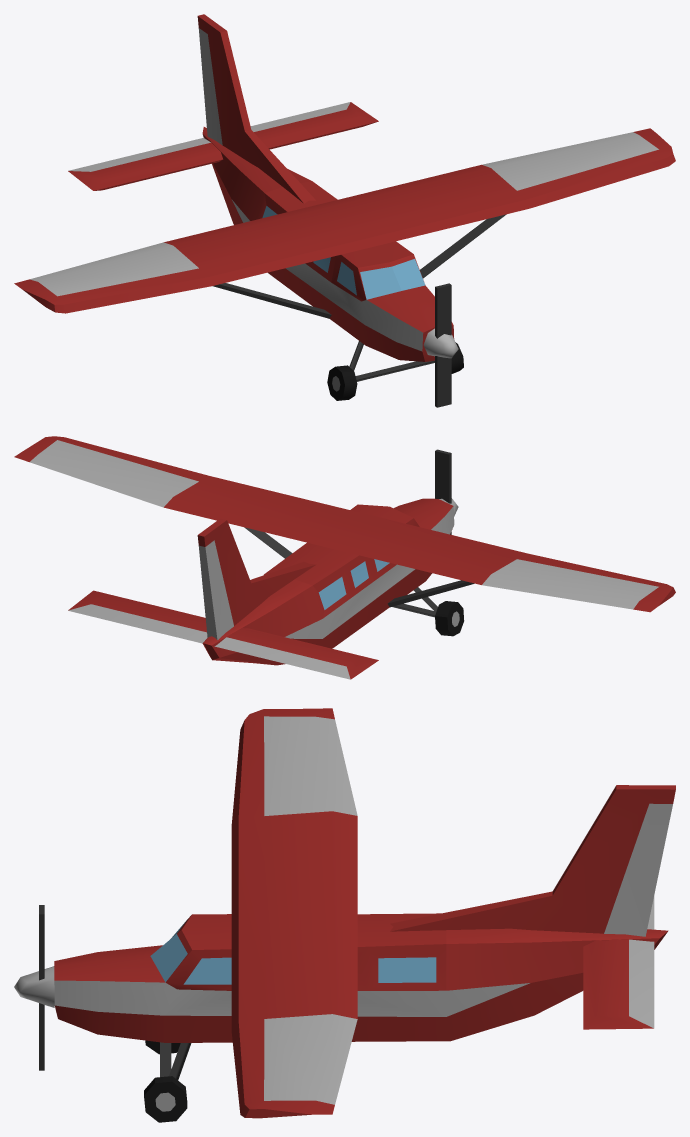
3 renders of one model, top to bottom at view 1: azimuth 30°, elevation 25°; view 2: azimuth 150°, elevation 25°; view 3: azimuth 270°, elevation 25°, orthographic. The views are drawn at different scales.
Parts seen in each view (by area): view 1: plane_01, plane_01_propeller; view 2: plane_01, plane_01_propeller; view 3: plane_01, plane_01_propeller.
Boxes of the visible parts, x1,y1,x2,y2 form: plane_01: (14,14,675,400); plane_01_propeller: (423,283,458,407); plane_01: (14,436,675,679); plane_01_propeller: (435,449,458,534); plane_01: (54,708,675,1122); plane_01_propeller: (14,905,54,1070).
Bounding box in the file's own units: 956 × 328 × 658.
